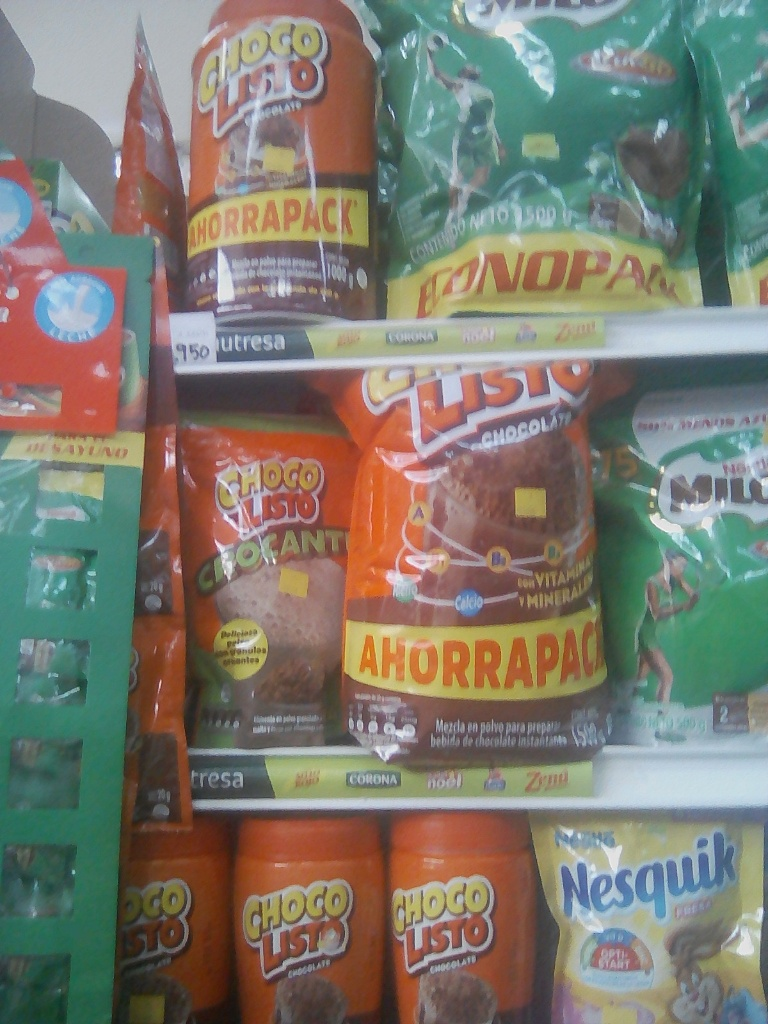COL0170102DYP50000: (177, 418, 348, 754)
COL0170103DYP1,500: (323, 363, 605, 758)
COL0170103TRR00100: (183, 0, 382, 322)
COL0170103TRR30000: (234, 810, 387, 1021)
COL0170203DYP50000: (381, 0, 711, 310)
COL0170205DYP50000: (605, 360, 766, 748)
COL0170305DYP20000: (540, 807, 765, 1023)
